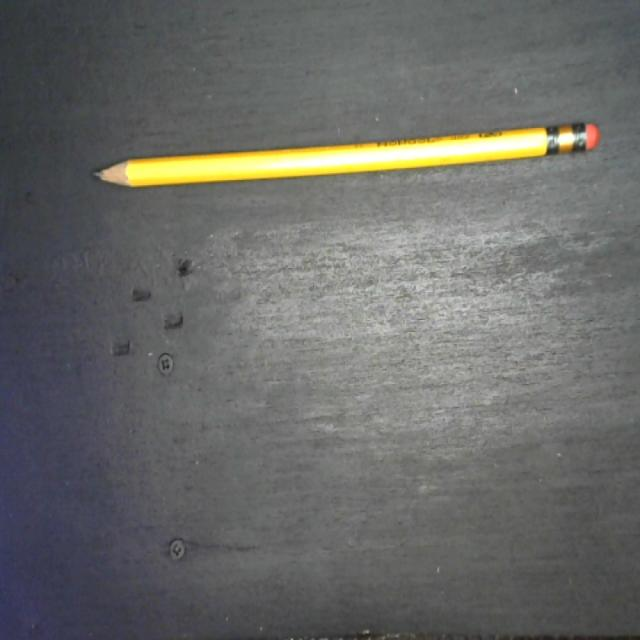biodegradable: (89, 120, 602, 191)
